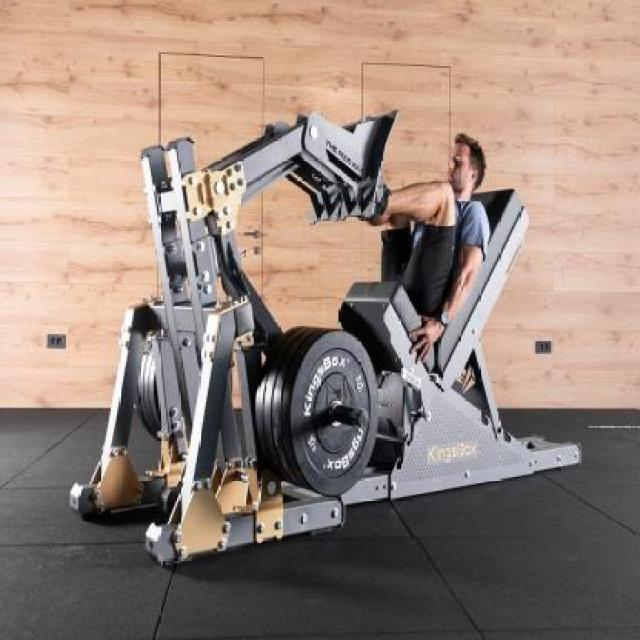leg press: (65, 80, 592, 574)
